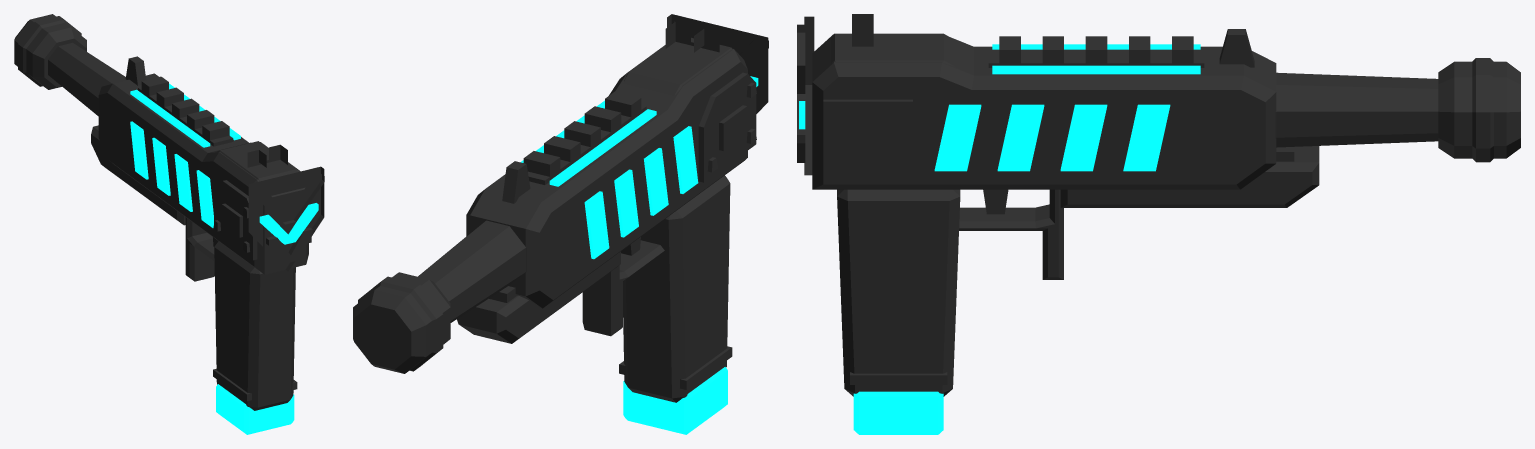
Rendered from blaster.glb.
3 renders of one model, left to right at view 1: azimuth 30°, elevation 25°; view 2: azimuth 150°, elevation 25°; view 3: azimuth 270°, elevation 25°, orthographic. The views are drawn at different scales.
Parts seen in each view (by area): view 1: frame, grip, trim, heat_vents, heat_cell; view 2: frame, grip, trim, heat_vents, heat_cell; view 3: frame, grip, trim, heat_vents, heat_cell.
Boxes of the visible parts, bbox=[...] form: frame: bbox=[14, 14, 324, 281]; grip: bbox=[214, 241, 295, 410]; trim: bbox=[18, 16, 324, 401]; heat_vents: bbox=[130, 83, 318, 244]; heat_cell: bbox=[216, 384, 294, 434]; frame: bbox=[353, 21, 768, 373]; grip: bbox=[623, 175, 730, 402]; trim: bbox=[358, 14, 768, 389]; heat_vents: bbox=[521, 76, 758, 259]; heat_cell: bbox=[623, 367, 727, 434]; frame: bbox=[797, 14, 1520, 279]; grip: bbox=[837, 189, 960, 396]; trim: bbox=[804, 16, 1493, 384]; heat_vents: bbox=[799, 44, 1200, 171]; heat_cell: bbox=[853, 391, 943, 434].
Bounding box in the file's own units: 0.066 × 0.242 × 0.4025.
